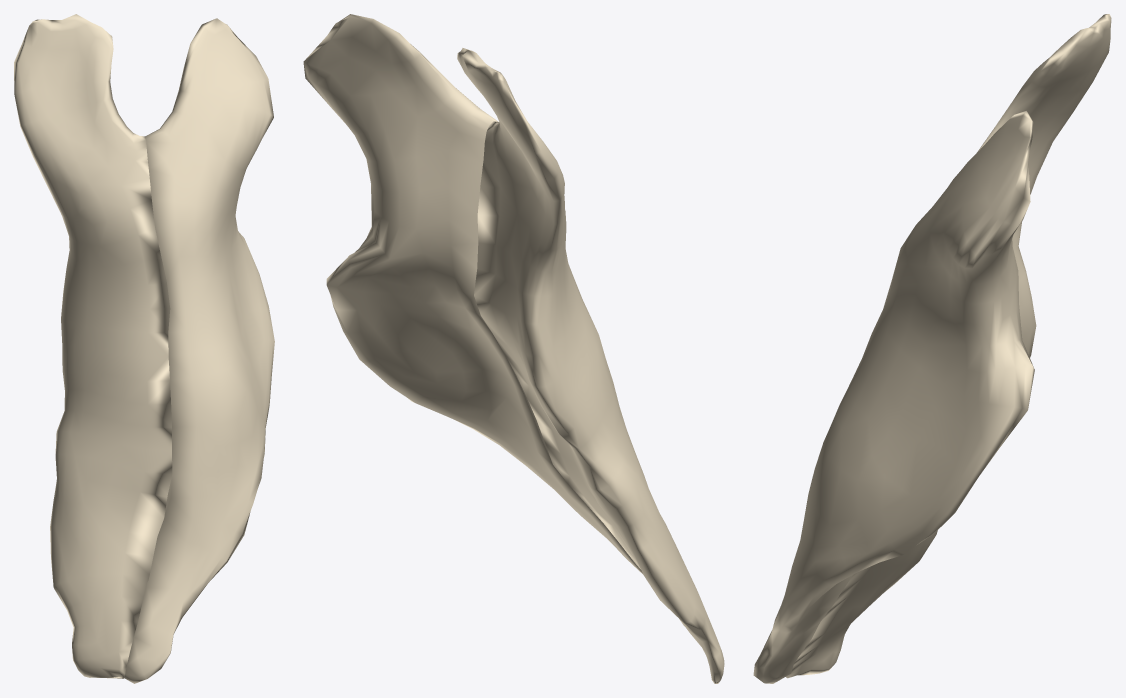
File: vh_m_thymus-80.glb
The picture shows the model from 3 angles, left to right: view 1: azimuth 30°, elevation 25°; view 2: azimuth 150°, elevation 25°; view 3: azimuth 270°, elevation 25°; orthographic projection. The views are drawn at different scales.
Visible parts, largest first — view 1: VH_M_thymus_lobe_L, VH_M_thymus_lobe_R; view 2: VH_M_thymus_lobe_R, VH_M_thymus_lobe_L; view 3: VH_M_thymus_lobe_R, VH_M_thymus_lobe_L.
Boxes of the visible parts, x1,y1,x2,y2 form: VH_M_thymus_lobe_L: (14,14,172,678); VH_M_thymus_lobe_R: (124,18,274,683); VH_M_thymus_lobe_R: (303,14,642,573); VH_M_thymus_lobe_L: (457,48,724,683); VH_M_thymus_lobe_R: (753,111,1034,683); VH_M_thymus_lobe_L: (786,14,1111,678).
Bounding box in the file's own units: 0.037 × 0.0757 × 0.0351.
